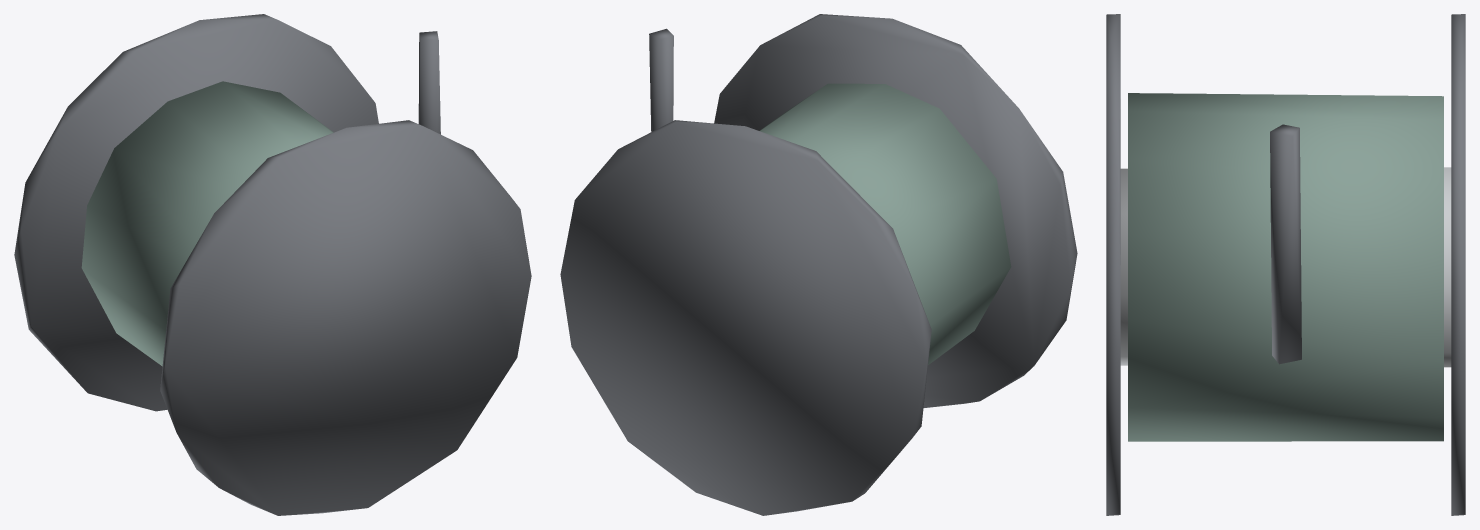
File: Prop_CableReel_LOD1.glb
The picture shows the model from 3 angles, left to right: view 1: azimuth 30°, elevation 25°; view 2: azimuth 150°, elevation 25°; view 3: azimuth 270°, elevation 25°; orthographic projection. The views are drawn at different scales.
Visible parts, largest first — view 1: Prop_CableReel_LOD1; view 2: Prop_CableReel_LOD1; view 3: Prop_CableReel_LOD1.
Boxes of the visible parts, bbox=[...] form: Prop_CableReel_LOD1: bbox=[14, 14, 531, 515]; Prop_CableReel_LOD1: bbox=[560, 14, 1077, 515]; Prop_CableReel_LOD1: bbox=[1106, 14, 1465, 515].
Size of the model in its own units: 0.7 by 0.7006 by 0.5.
